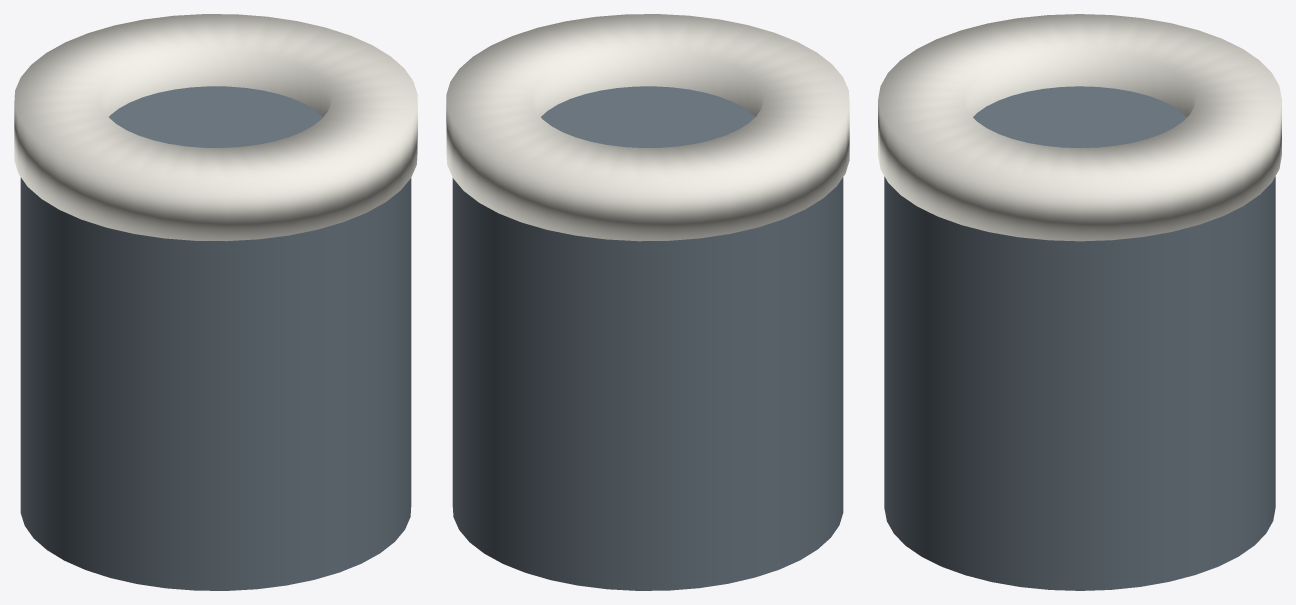
File: iss_canadarm2.base_roll.shoulder_pitch.elbow_pitch.wrist_pitch.glb
3 renders of one model, left to right at view 1: azimuth 30°, elevation 25°; view 2: azimuth 150°, elevation 25°; view 3: azimuth 270°, elevation 25°, orthographic.
Visible parts, largest first — view 1: iss_canadarm2.base_roll.shoulder_pitch.elbow_pitch.wrist_pit (×2); view 2: iss_canadarm2.base_roll.shoulder_pitch.elbow_pitch.wrist_pit (×2); view 3: iss_canadarm2.base_roll.shoulder_pitch.elbow_pitch.wrist_pit (×2).
Boxes of the visible parts, bbox=[...] form: iss_canadarm2.base_roll.shoulder_pitch.elbow_pitch.wrist_pit (×2): bbox=[14, 14, 417, 590]; iss_canadarm2.base_roll.shoulder_pitch.elbow_pitch.wrist_pit (×2): bbox=[446, 14, 849, 590]; iss_canadarm2.base_roll.shoulder_pitch.elbow_pitch.wrist_pit (×2): bbox=[878, 14, 1281, 590].
Bounding box in the file's own units: 0.51 × 0.57 × 0.51.
